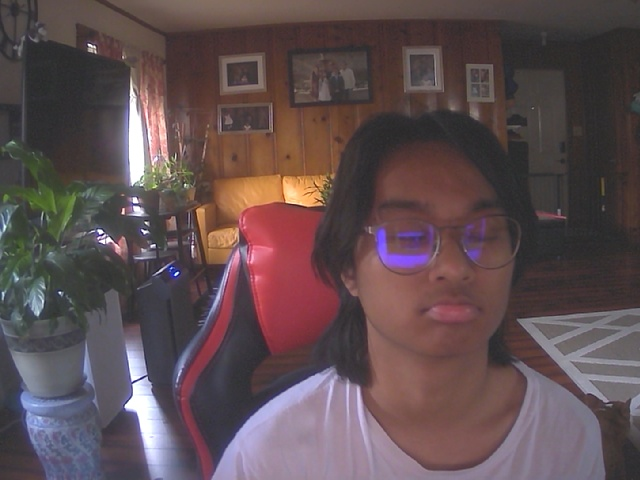sad: (334, 116, 527, 363)
